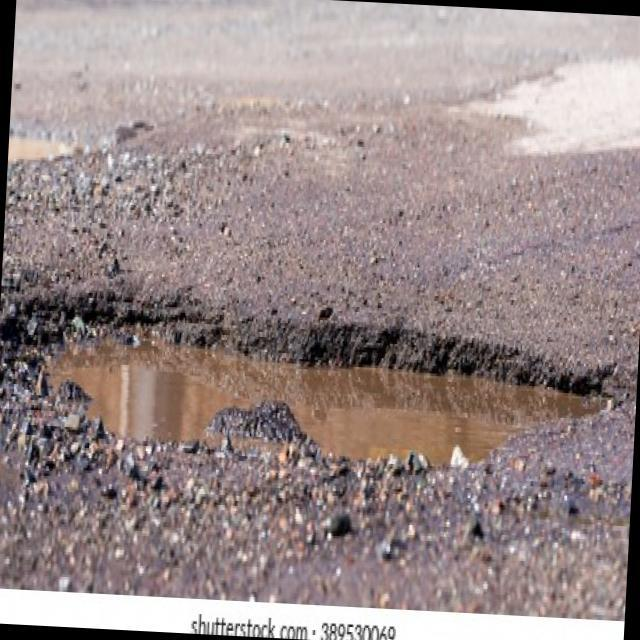Pothole: (0, 287, 627, 483)
